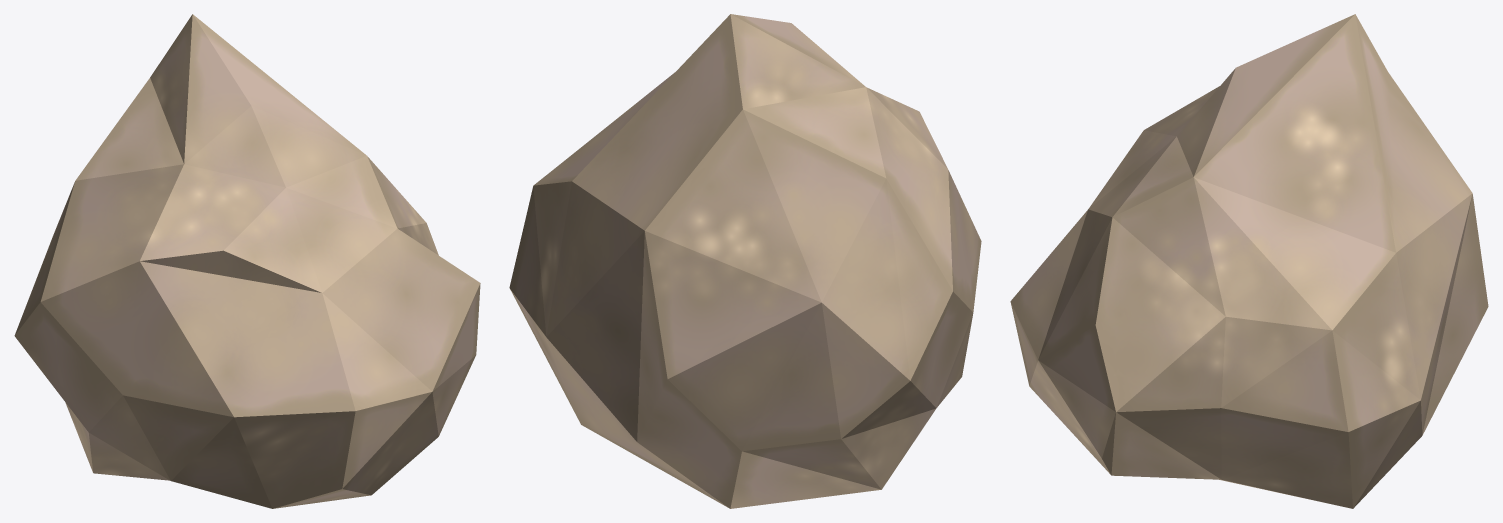
The model's file is rock3.fbx.
3 renders of one model, left to right at view 1: azimuth 30°, elevation 25°; view 2: azimuth 150°, elevation 25°; view 3: azimuth 270°, elevation 25°, orthographic. The views are drawn at different scales.
Visible parts, largest first — view 1: Cube.002; view 2: Cube.002; view 3: Cube.002.
Part boxes in pixels (<box>): Cube.002: <box>14,14,480,508</box>; Cube.002: <box>509,14,981,508</box>; Cube.002: <box>1010,14,1488,508</box>.
Size of the model in its own units: 695 by 771 by 723.
